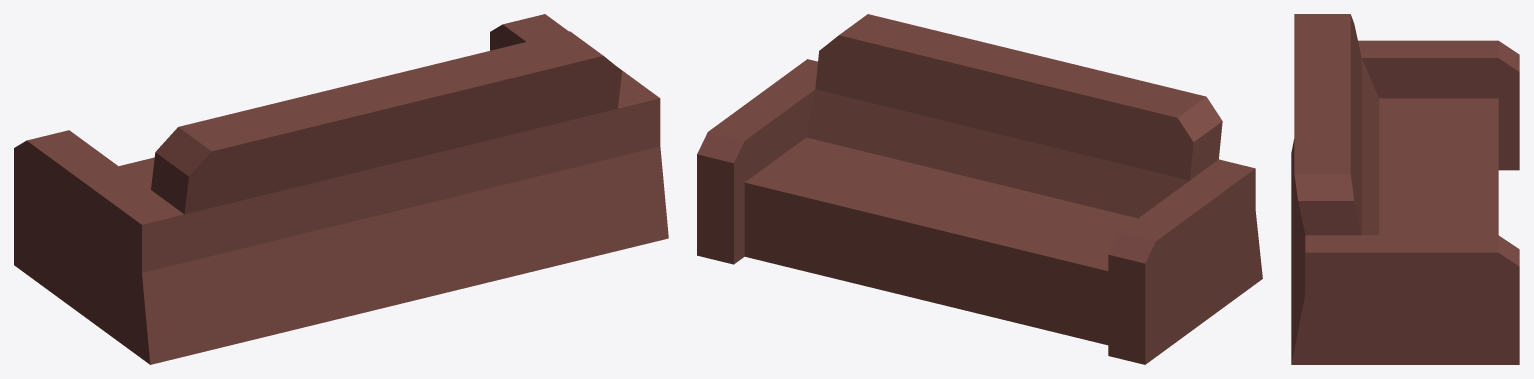
File: Sofa02.fbx
3 renders of one model, left to right at view 1: azimuth 30°, elevation 25°; view 2: azimuth 150°, elevation 25°; view 3: azimuth 270°, elevation 25°, orthographic. The views are drawn at different scales.
Parts seen in each view (by area): view 1: Sofa2; view 2: Sofa2; view 3: Sofa2.
Boxes of the visible parts, x1,y1,x2,y2 form: Sofa2: [14, 14, 668, 364]; Sofa2: [697, 14, 1262, 364]; Sofa2: [1291, 14, 1519, 364].
Size of the model in its own units: 3.72 by 1.69 by 1.35.
